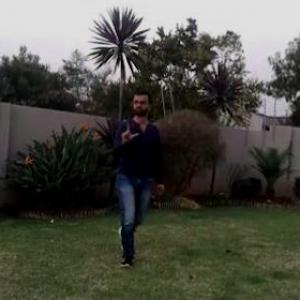land_hand: (117, 112, 144, 147)
